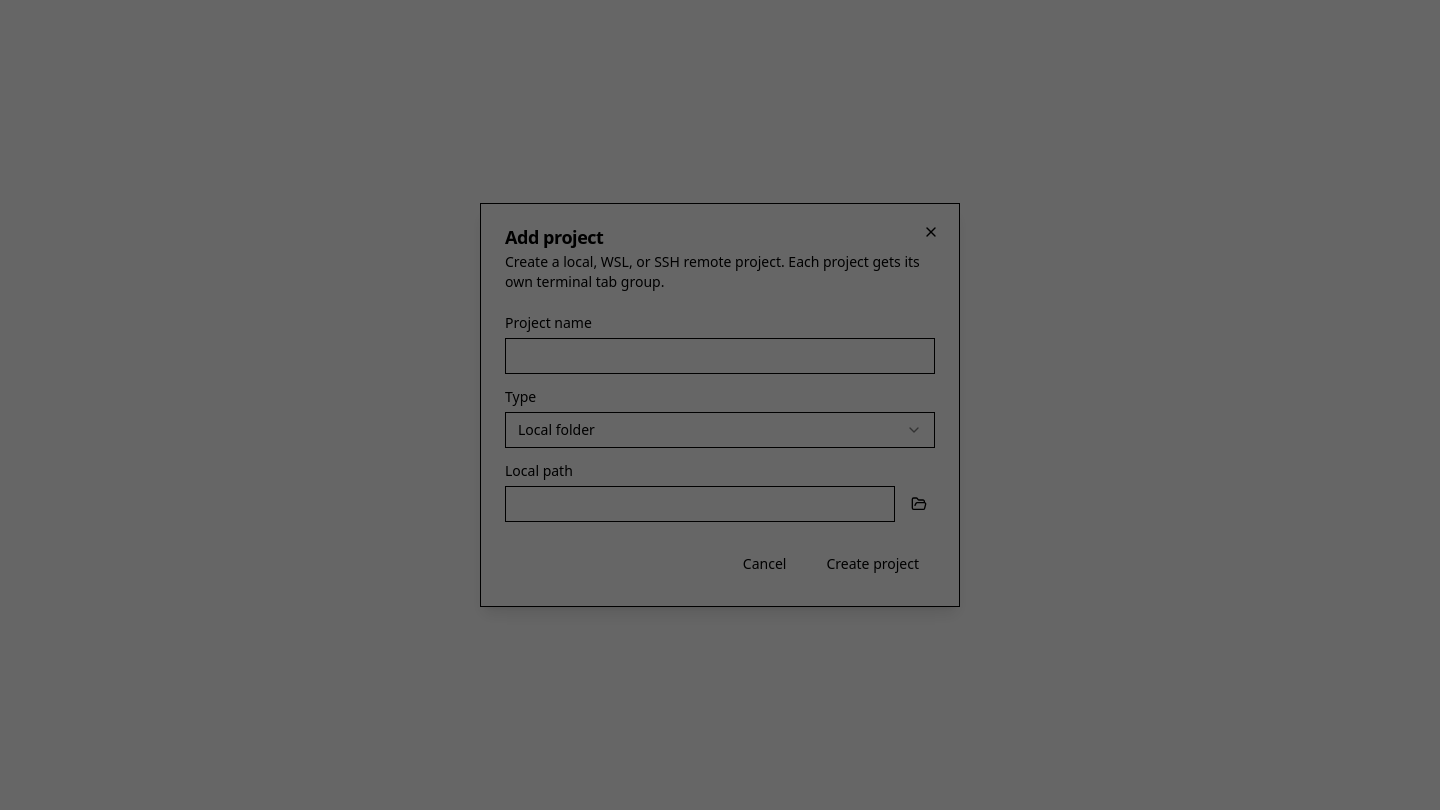
Test case: ProjectDialog › shows the selected folder as soon as the native picker resolves
The width and height of the screenshot is (1440, 810).
Click the button named "Browse folder" at (919, 504), box [903,486,935,522]
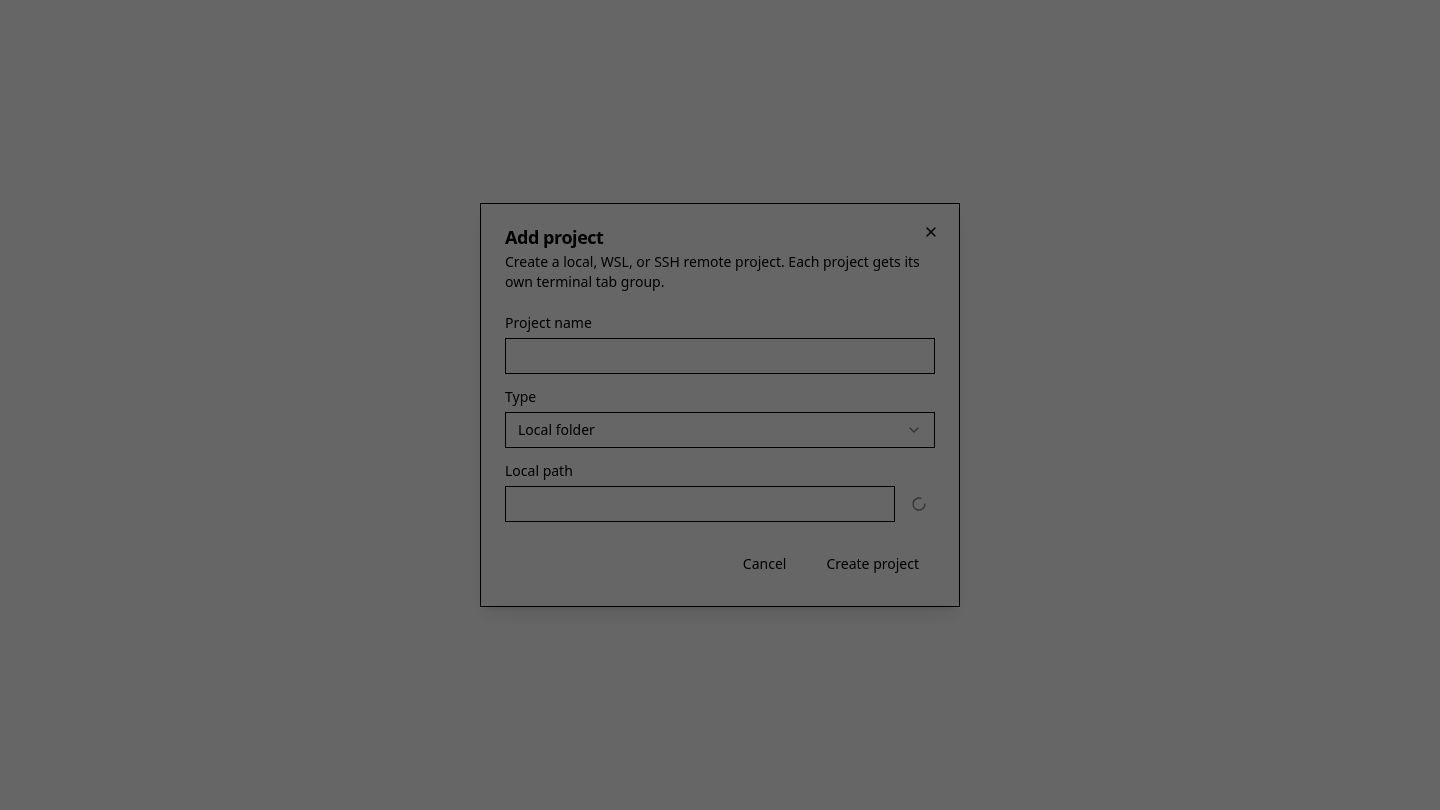
expect the button named "Browse folder" is disabled: met
Click the button named "Browse folder" at (919, 504), box [903,486,935,522]
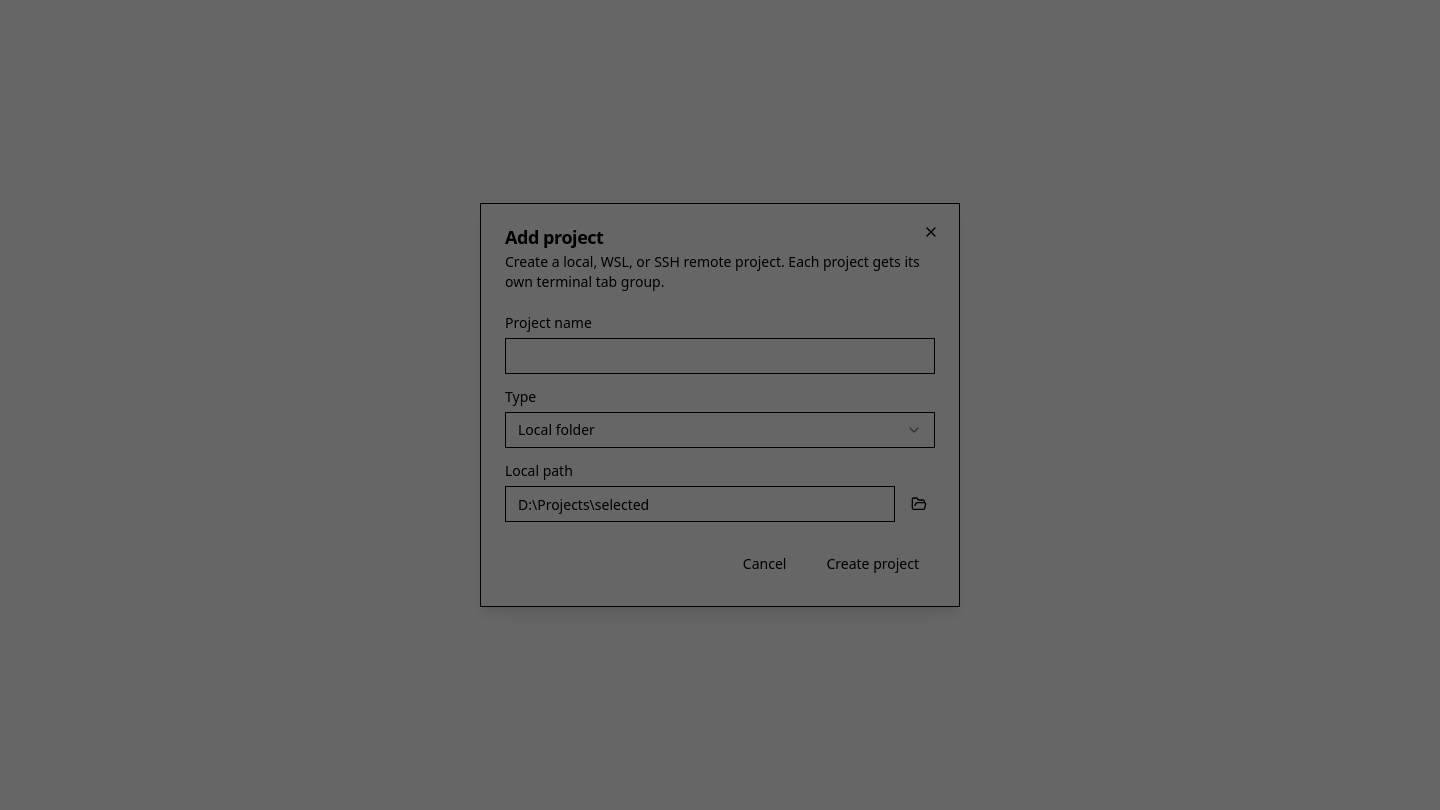
expect the field labelled "Local path" holds "D:\\Projects\\selected": met, box [505,486,895,522]
expect the button named "Browse folder" is enabled: met, box [903,486,935,522]
